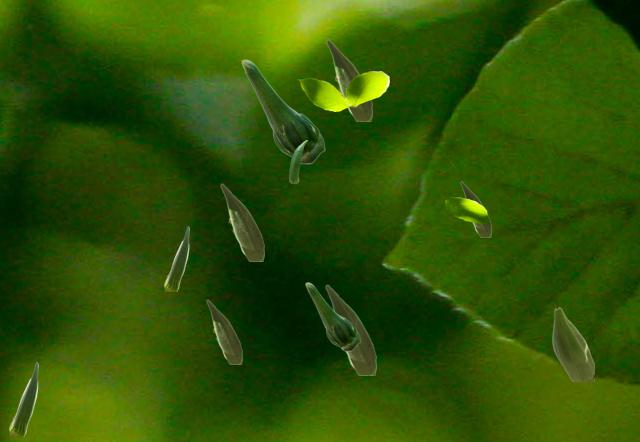okra: (241, 59, 324, 163), (325, 284, 375, 374), (305, 282, 359, 350), (326, 39, 371, 120), (220, 183, 263, 260), (552, 307, 593, 380), (206, 299, 241, 363), (9, 362, 37, 435), (460, 181, 490, 236), (164, 226, 188, 290), (289, 140, 306, 182)
